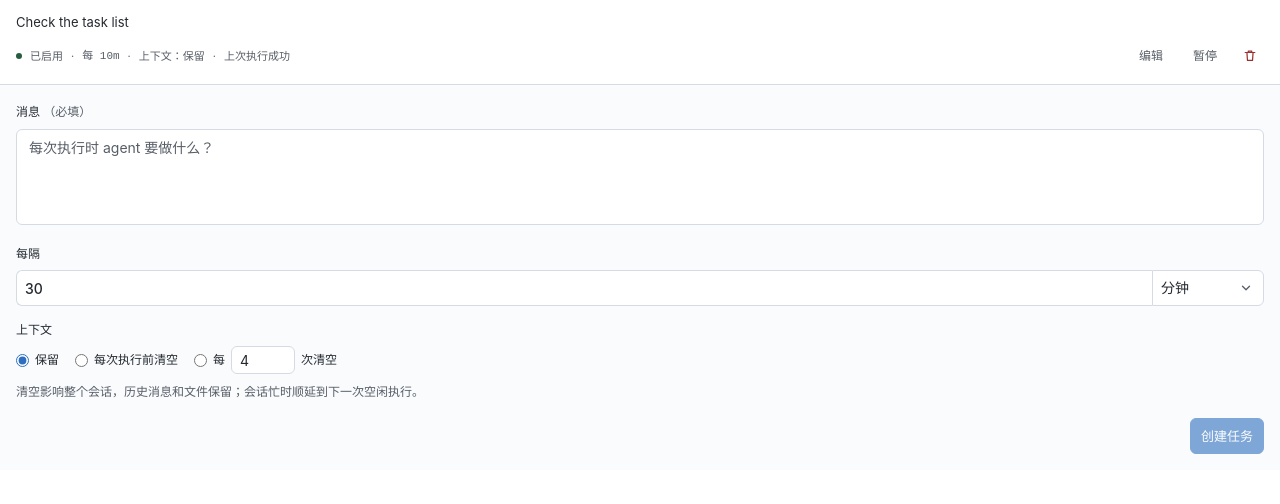
requires inline confirmation before deleting and surfaces a failed removal
Click the button named "删除定时任务".
click(1250, 56)  # box [1236,42,1264,70]
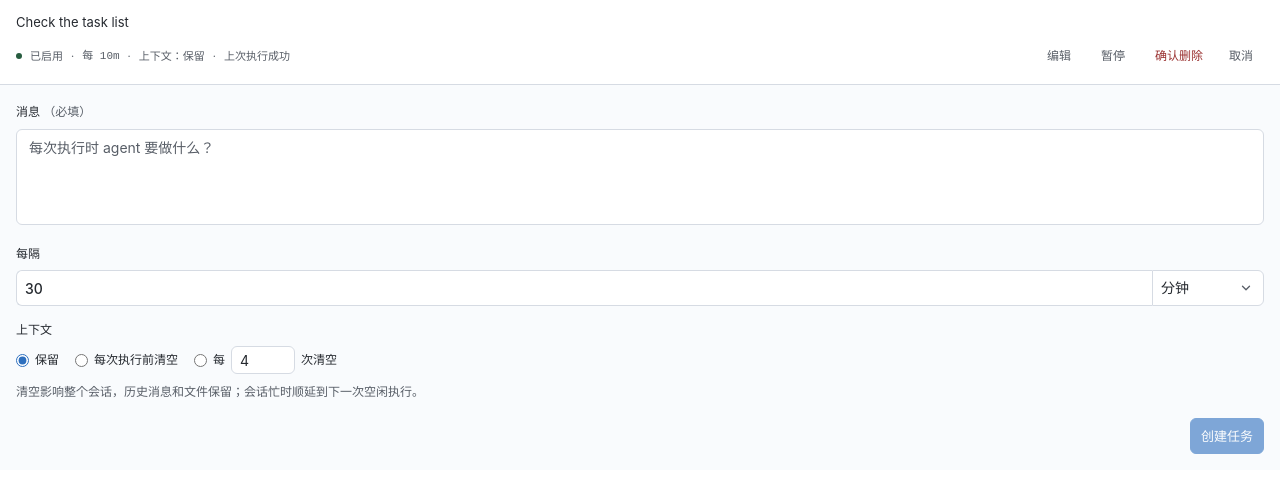
Click the button "确认删除".
click(1179, 56)  # box [1144,40,1214,72]
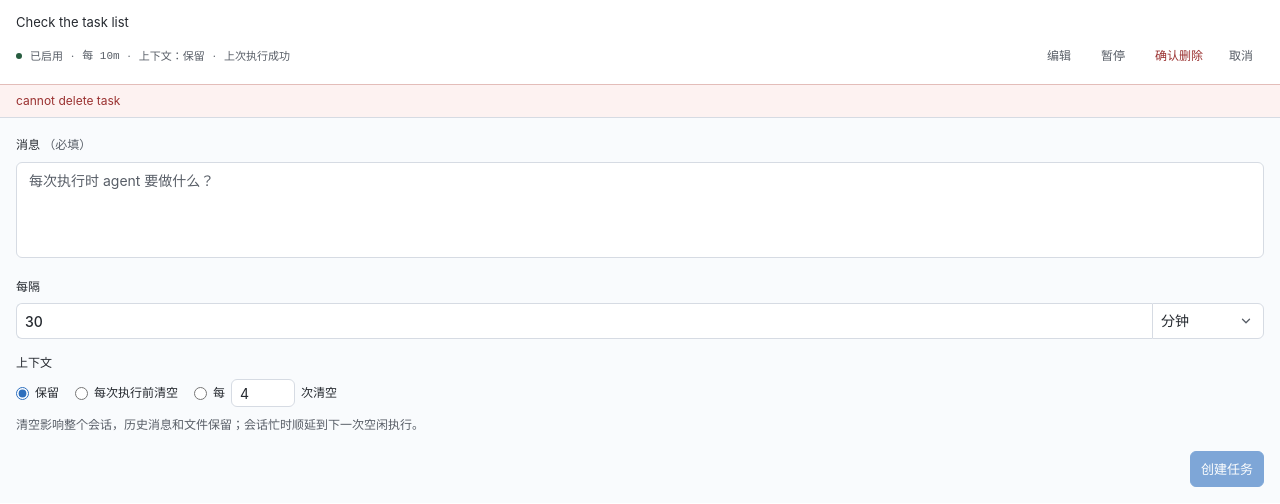
expect the message reads "cannot delete task": met, box [16,93,120,108]
